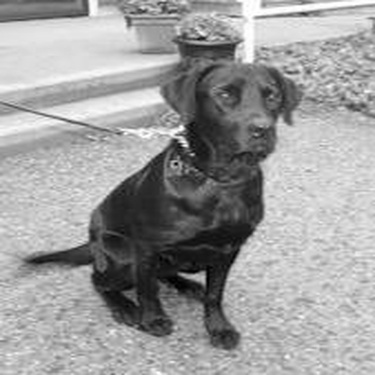dog: (17, 55, 306, 356)
